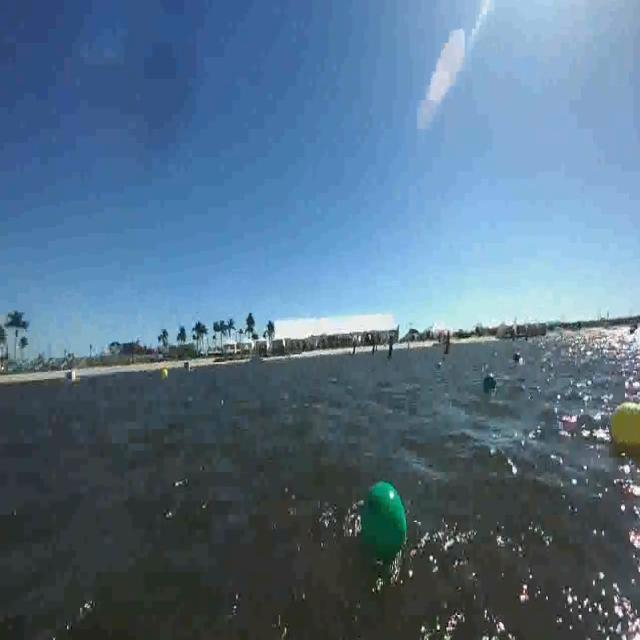green-buoy: (362, 481, 410, 566), (482, 370, 496, 392)
yellow-buoy: (609, 401, 640, 449), (162, 366, 170, 381)
